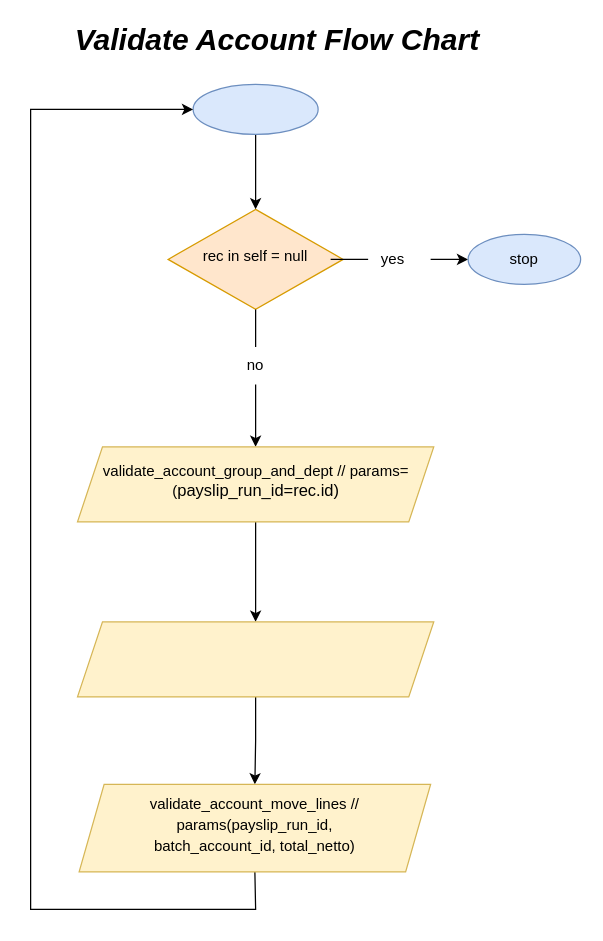
This 603x941 diagram has some shape labels left out. The shapes that lost their labels are listed below. From the top down, each one's box as (x1, y1, x2, y2) in pixels, then its label:
(192, 83, 318, 134): start
(76, 621, 434, 697): validate_account_move_line
